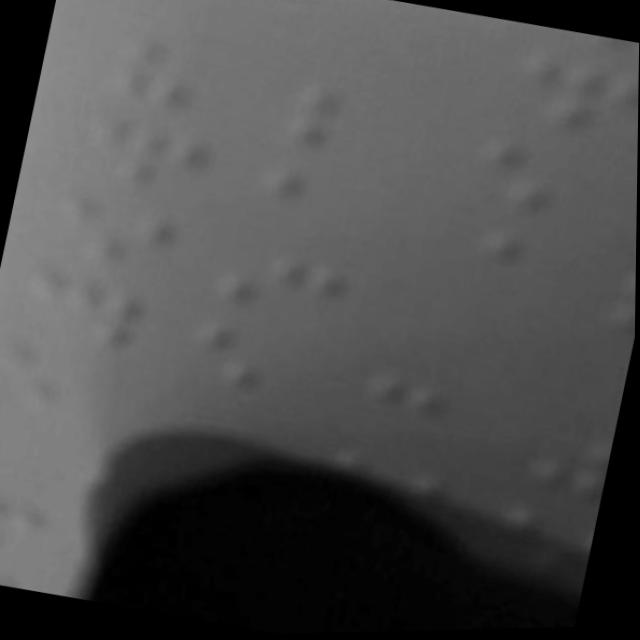braiile: (451, 133, 613, 245), (499, 46, 639, 161), (46, 185, 199, 290), (418, 221, 573, 324), (267, 74, 419, 178), (176, 317, 329, 414), (78, 113, 219, 212), (13, 263, 156, 358), (240, 163, 381, 259), (99, 29, 236, 126), (0, 337, 133, 435), (210, 245, 349, 333)
